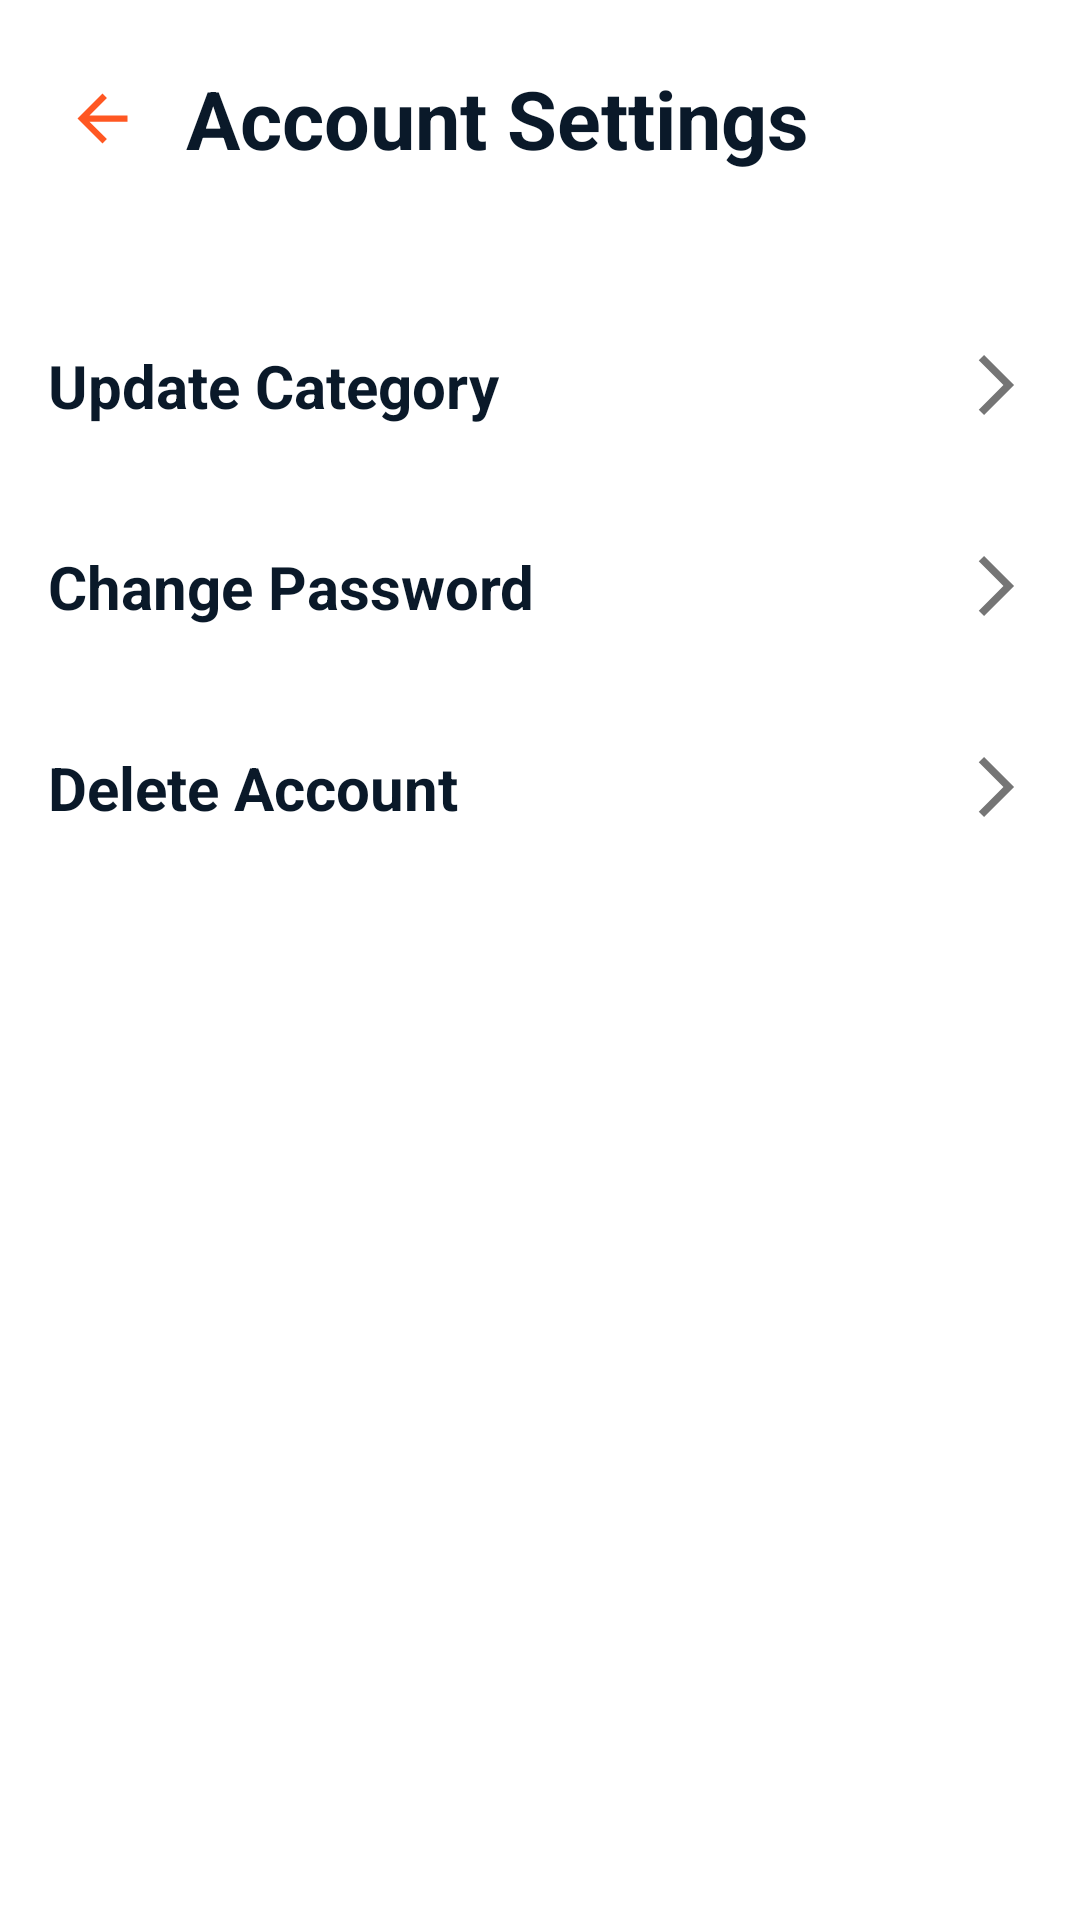

Named icons in this screenshot (1080px x 1920px) and their bounding boxes, (x1, y1, x2, y2):
arrow back: (77, 93, 128, 144)
arrow forward: (979, 355, 1014, 415), (979, 556, 1014, 616), (979, 757, 1014, 817)
